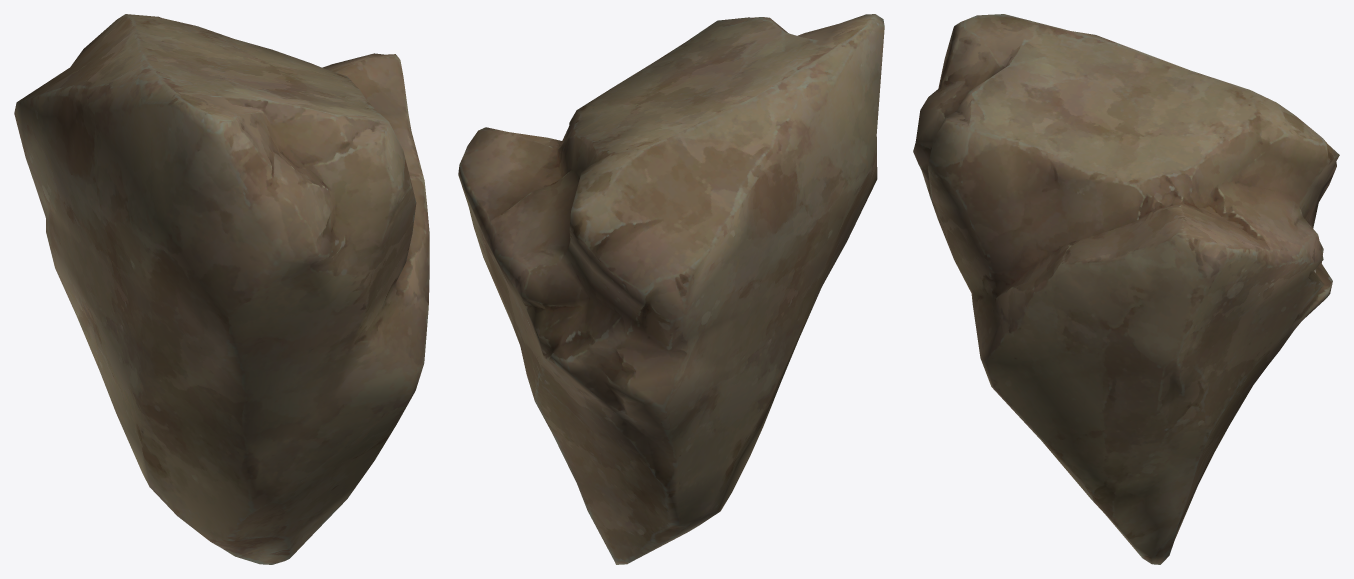
The model's file is Area_Dq_Rock_Common_Full_River_L_08_Lod0.fbx.
The picture shows the model from 3 angles, left to right: view 1: azimuth 30°, elevation 25°; view 2: azimuth 150°, elevation 25°; view 3: azimuth 270°, elevation 25°; orthographic projection. The views are drawn at different scales.
Visible parts, largest first — view 1: Area_Dq_Rock_Common_Full_River_L_08_Lod0; view 2: Area_Dq_Rock_Common_Full_River_L_08_Lod0; view 3: Area_Dq_Rock_Common_Full_River_L_08_Lod0.
Part boxes in pixels (<box>): Area_Dq_Rock_Common_Full_River_L_08_Lod0: <box>14,14,429,564</box>; Area_Dq_Rock_Common_Full_River_L_08_Lod0: <box>458,14,884,564</box>; Area_Dq_Rock_Common_Full_River_L_08_Lod0: <box>913,14,1339,564</box>.
Bounding box in the file's own units: 4.07 × 6.38 × 5.17.
1 material, 1 textured.
